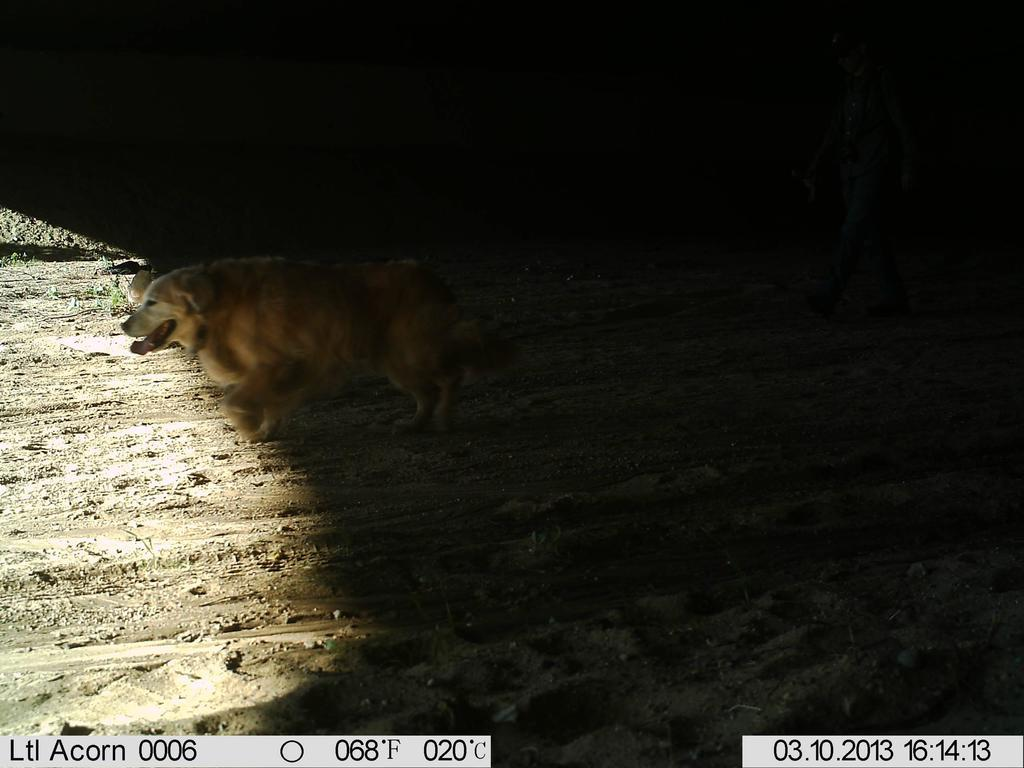dog: (118, 247, 489, 446)
